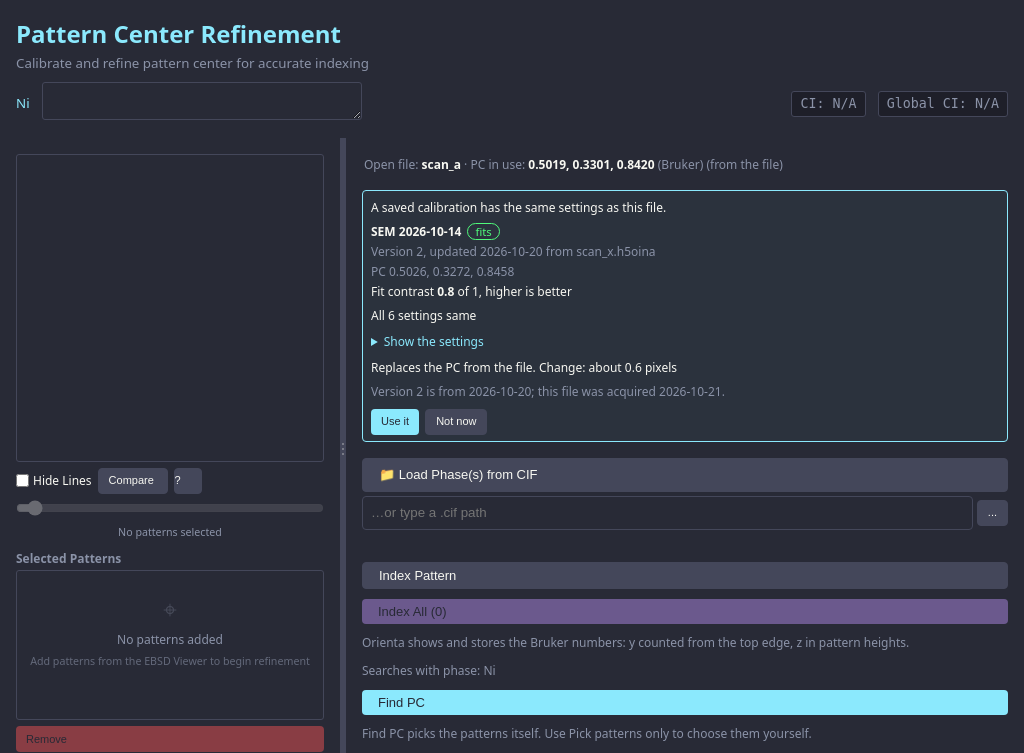
Test: the offer on load › a calibration applied to a PC map says what happened to the map
Click the button "Use it".
click(395, 422)  # box x1=371 y1=409 x2=419 y2=435
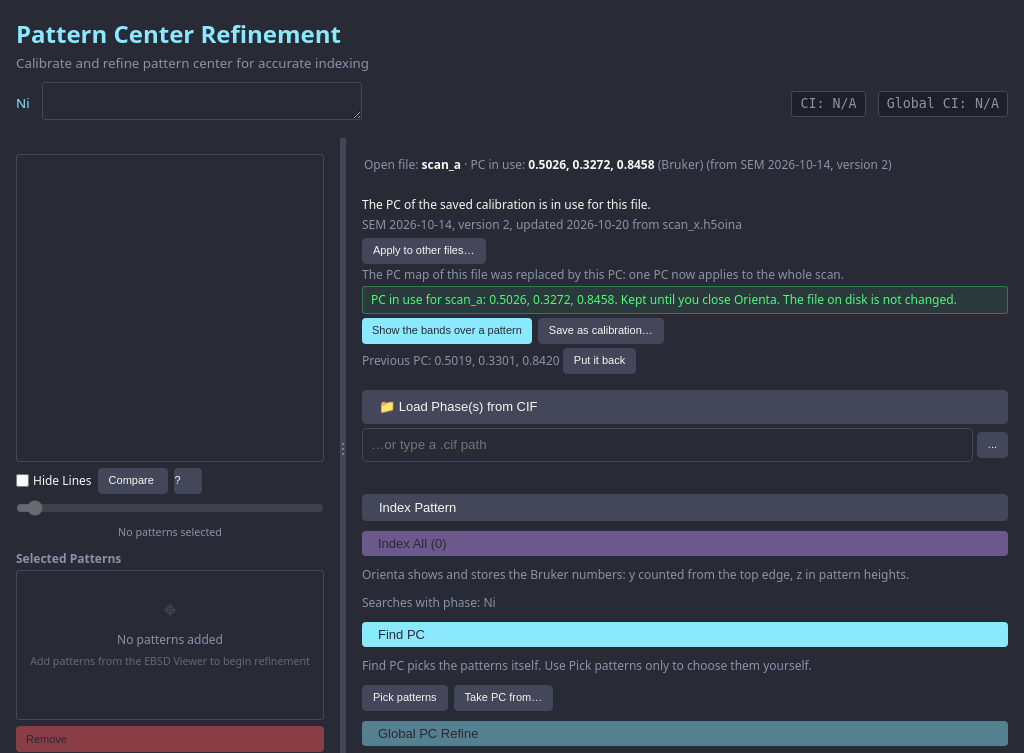
Expected: the message with test id "calibration-map-note" shows "The PC map of this file was replaced by this PC: one PC now applies to the whole scan.", x1=362 y1=266 x2=844 y2=283
